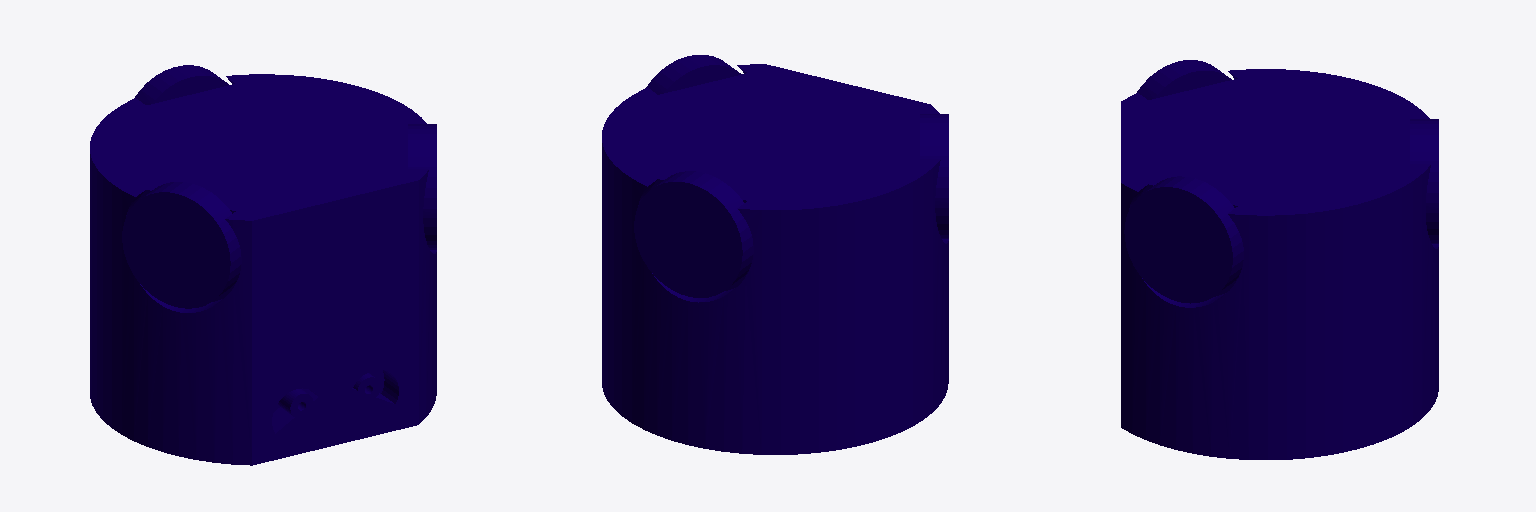
Rendered from robot_model.obj.
3 renders of one model, left to right at view 1: azimuth 30°, elevation 25°; view 2: azimuth 150°, elevation 25°; view 3: azimuth 270°, elevation 25°, orthographic.
Parts seen in each view (by area): view 1: robot; view 2: robot; view 3: robot.
Boxes of the visible parts, x1,y1,x2,y2 form: robot: [90, 65, 436, 465]; robot: [602, 55, 948, 454]; robot: [1121, 60, 1438, 459].
Size of the model in its own units: 188 by 150 by 165.